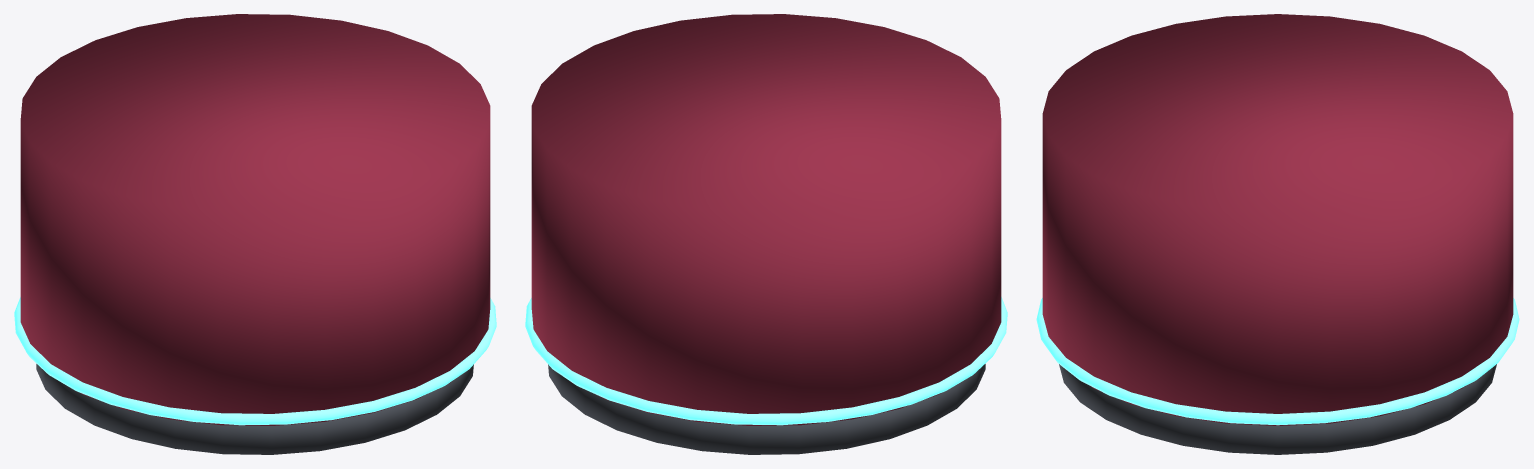
File: ottoman_puck.glb
3 renders of one model, left to right at view 1: azimuth 30°, elevation 25°; view 2: azimuth 150°, elevation 25°; view 3: azimuth 270°, elevation 25°, orthographic.
Visible parts, largest first — view 1: GD_ottoman_puck__m0, GD_ottoman_puck__m1, GD_ottoman_puck__m2; view 2: GD_ottoman_puck__m0, GD_ottoman_puck__m1, GD_ottoman_puck__m2; view 3: GD_ottoman_puck__m0, GD_ottoman_puck__m1, GD_ottoman_puck__m2.
Boxes of the visible parts, <box> form: GD_ottoman_puck__m0: <box>20,14,490,425</box>; GD_ottoman_puck__m1: <box>36,364,473,454</box>; GD_ottoman_puck__m2: <box>14,297,496,425</box>; GD_ottoman_puck__m0: <box>531,14,1001,425</box>; GD_ottoman_puck__m1: <box>548,364,985,454</box>; GD_ottoman_puck__m2: <box>525,297,1007,425</box>; GD_ottoman_puck__m0: <box>1042,14,1513,425</box>; GD_ottoman_puck__m1: <box>1059,364,1496,454</box>; GD_ottoman_puck__m2: <box>1036,298,1519,425</box>.
Bounding box in the file's own units: 0.616 × 0.35 × 0.616.
